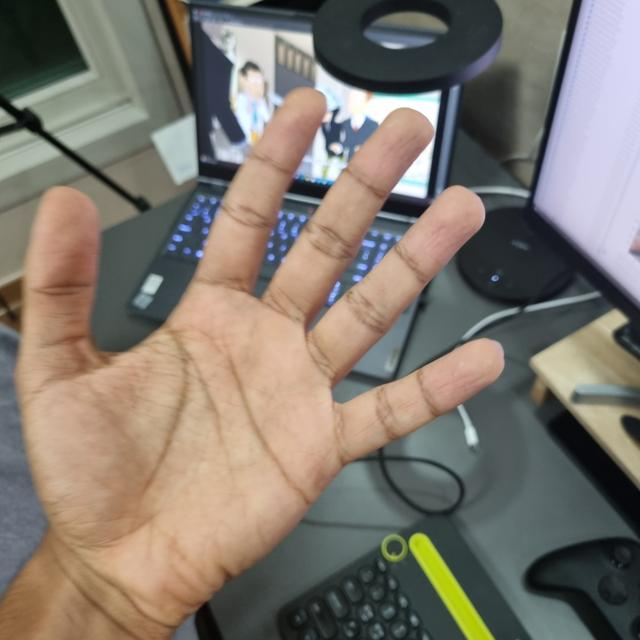Paper: (15, 87, 505, 620)
